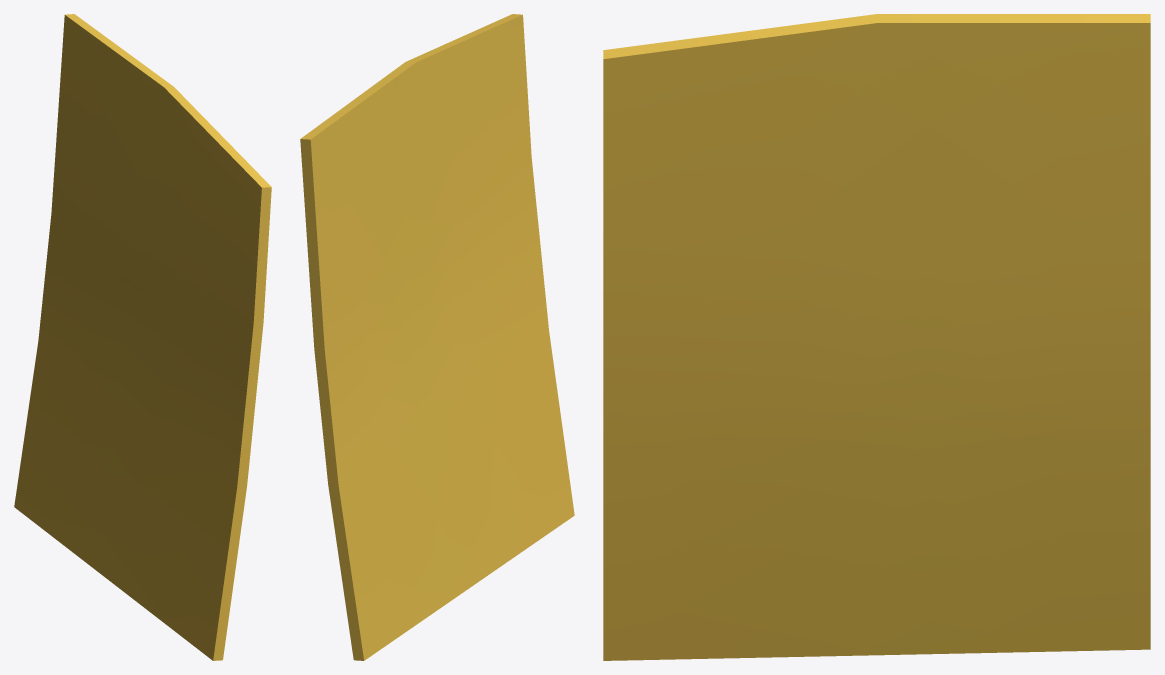
File: Note_1_1.fbx
The picture shows the model from 3 angles, left to right: view 1: azimuth 30°, elevation 25°; view 2: azimuth 150°, elevation 25°; view 3: azimuth 270°, elevation 25°; orthographic projection. The views are drawn at different scales.
Visible parts, largest first — view 1: Note_1_1; view 2: Note_1_1; view 3: Note_1_1.
Part boxes in pixels (x1,y1,x2,y2): Note_1_1: (14, 14, 271, 660); Note_1_1: (300, 14, 574, 660); Note_1_1: (603, 14, 1150, 660).
Size of the model in its own units: 3.84 by 29.76 by 21.89.
